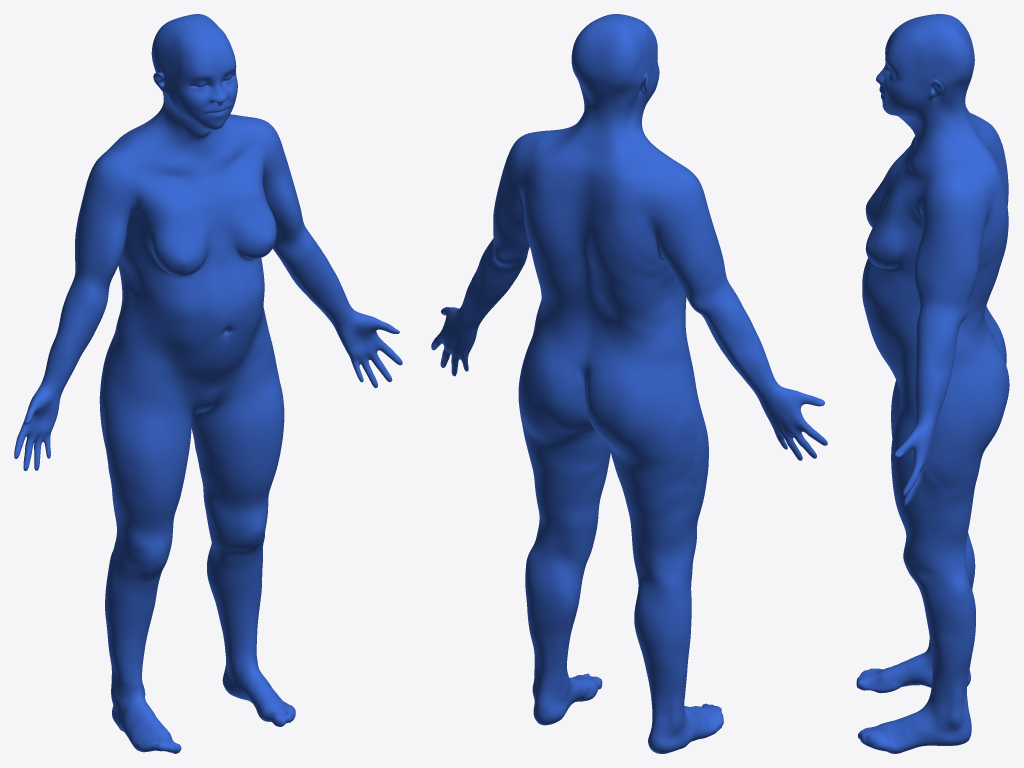
Rendered from VH_F_Skin_v1.1.glb.
The picture shows the model from 3 angles, left to right: view 1: azimuth 30°, elevation 25°; view 2: azimuth 150°, elevation 25°; view 3: azimuth 270°, elevation 25°; orthographic projection. The views are drawn at different scales.
Visible parts, largest first — view 1: VHF_skin; view 2: VHF_skin; view 3: VHF_skin.
Part boxes in pixels (x1,y1,x2,y2): VHF_skin: [14, 14, 402, 753]; VHF_skin: [431, 14, 827, 753]; VHF_skin: [856, 14, 1009, 753].
Bounding box in the file's own units: 0.967 × 1.67 × 0.3291.
